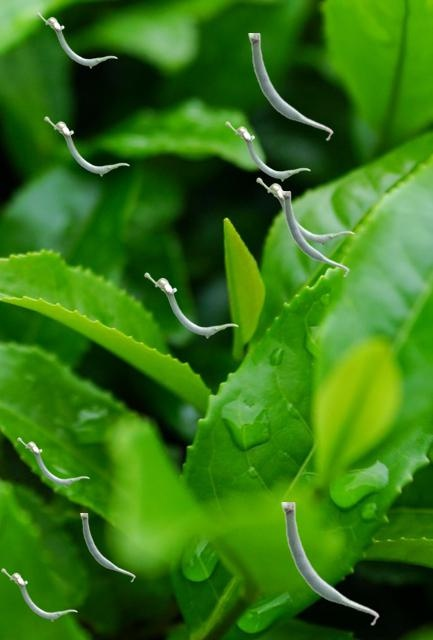french_bean: (281, 502, 378, 625), (248, 33, 332, 140), (256, 177, 353, 245), (144, 272, 237, 337), (281, 191, 348, 276), (44, 116, 128, 175), (225, 121, 309, 180), (36, 12, 116, 67), (1, 568, 76, 620), (80, 513, 134, 581), (17, 437, 88, 486)
